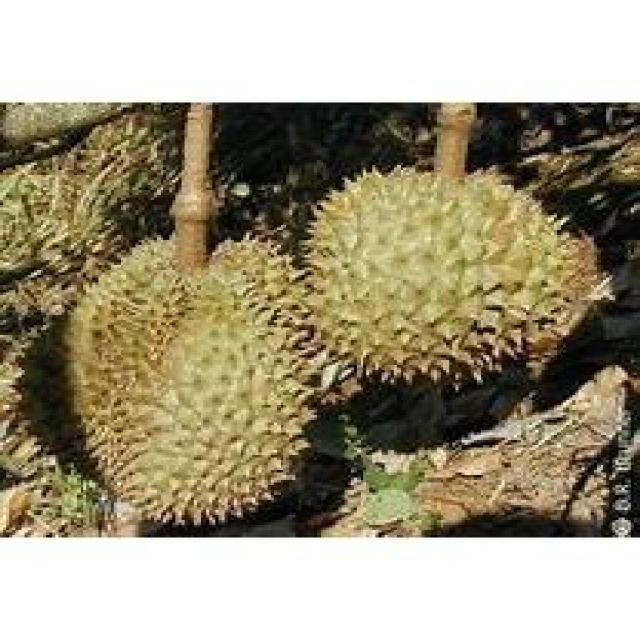fruit: (261, 128, 634, 488), (31, 198, 342, 538)
